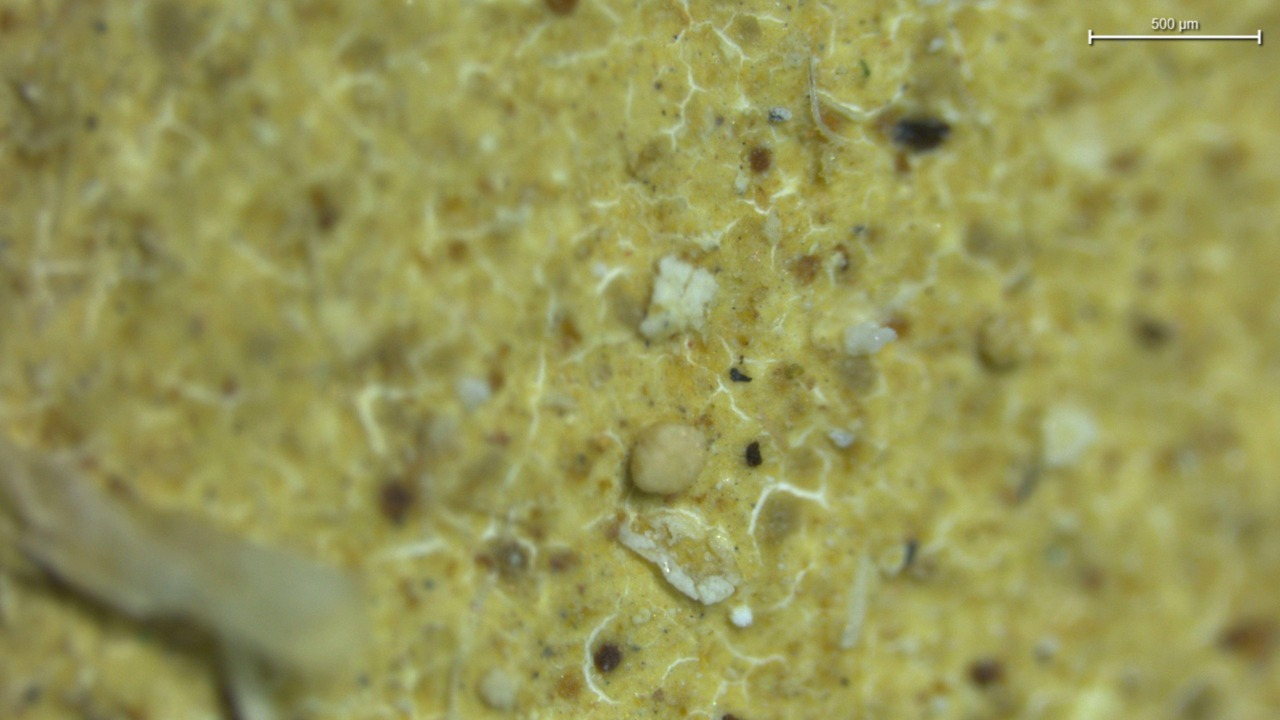microplastic_fragment: (617, 508, 741, 605), (640, 256, 718, 337), (629, 424, 707, 495)
